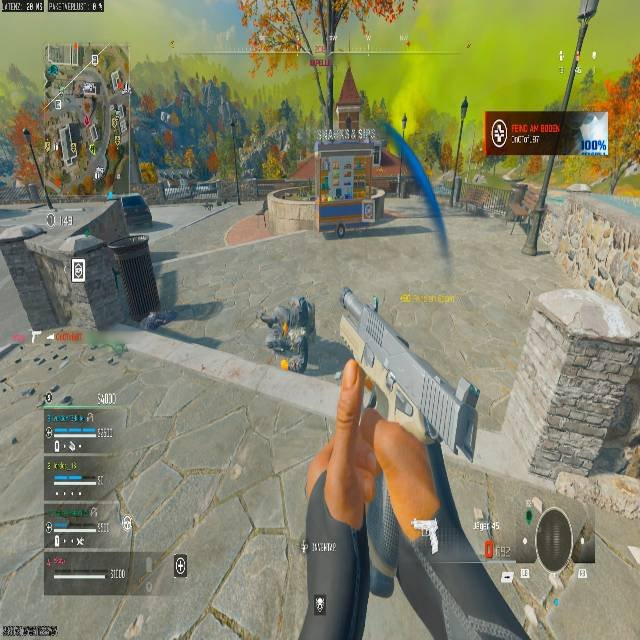player: (258, 293, 317, 375), (336, 221, 345, 238)
